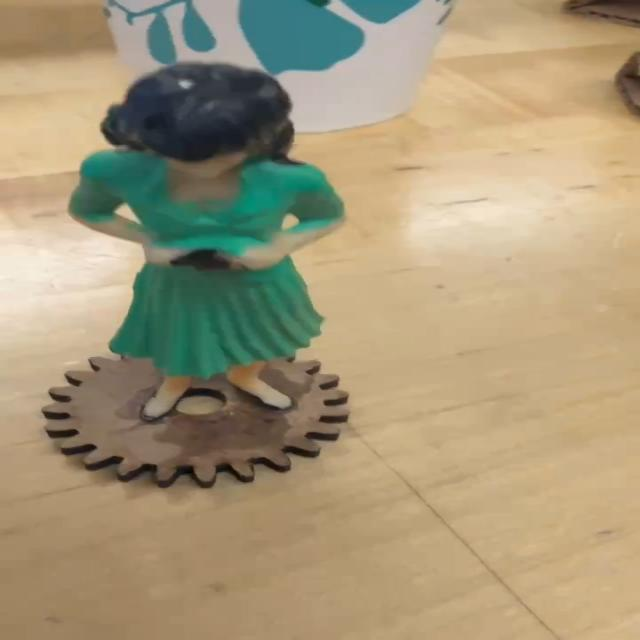Authorized: (64, 65, 342, 417)
